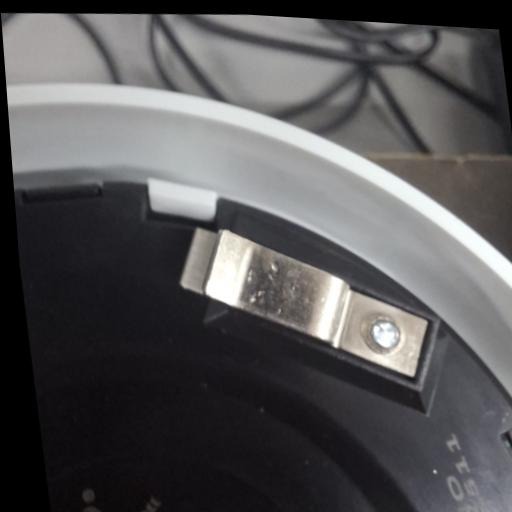yayli: (178, 213, 435, 391)
